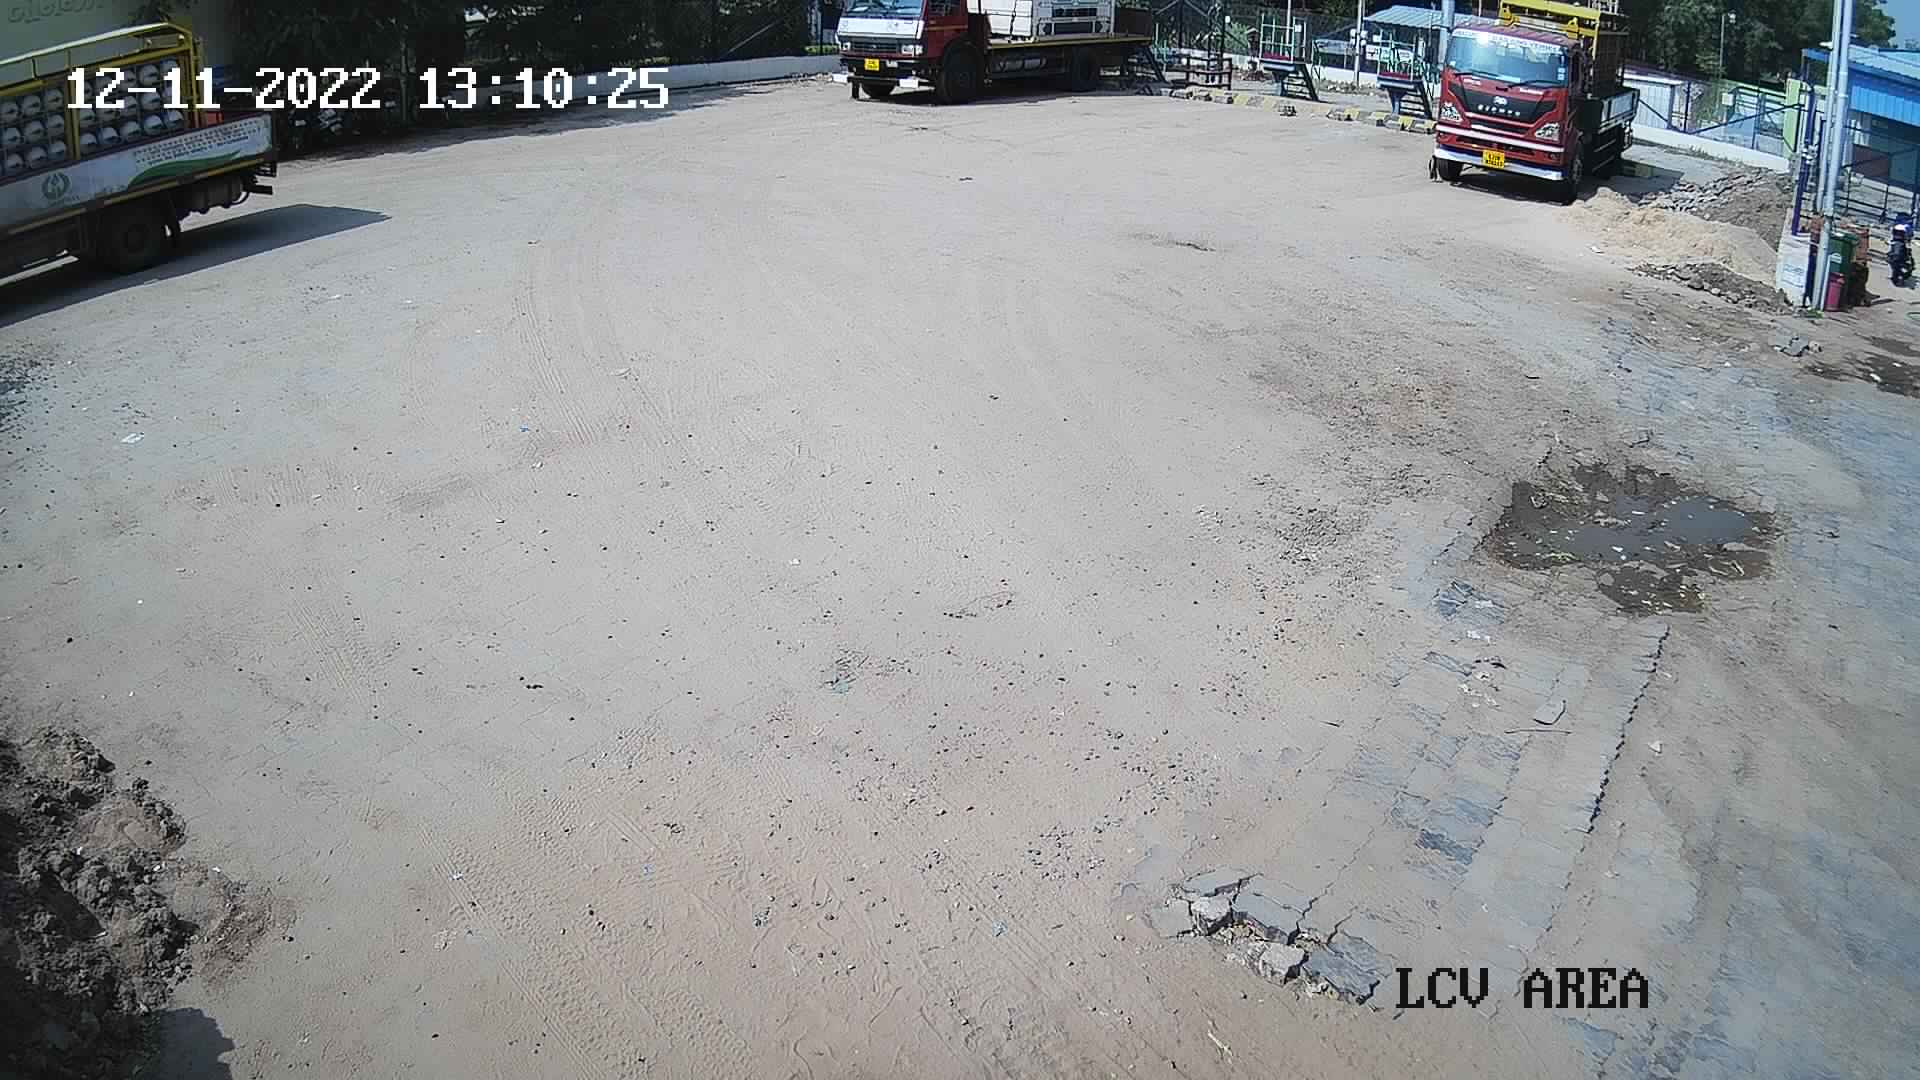Bike: (1869, 196, 1917, 297)
HMV: (0, 0, 305, 290), (1411, 0, 1648, 206), (810, 0, 1176, 107)
